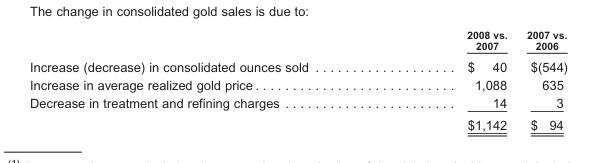table: (28, 28, 567, 131)
table column: (28, 28, 387, 131), (387, 28, 516, 131), (516, 28, 567, 131)
table column header: (28, 28, 567, 54)
table row: (28, 28, 567, 54), (28, 54, 567, 75), (28, 93, 567, 113), (28, 75, 567, 93), (28, 113, 567, 131)
